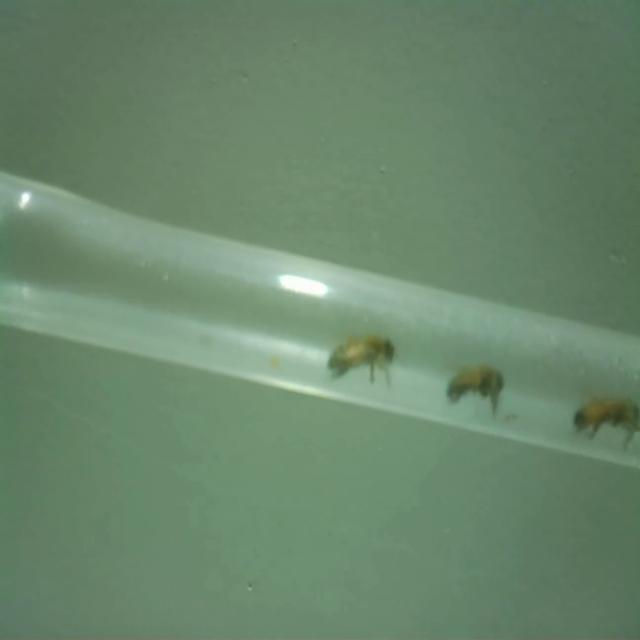Honeybee-Detection: (326, 321, 397, 387), (572, 385, 640, 452), (444, 350, 506, 417)
